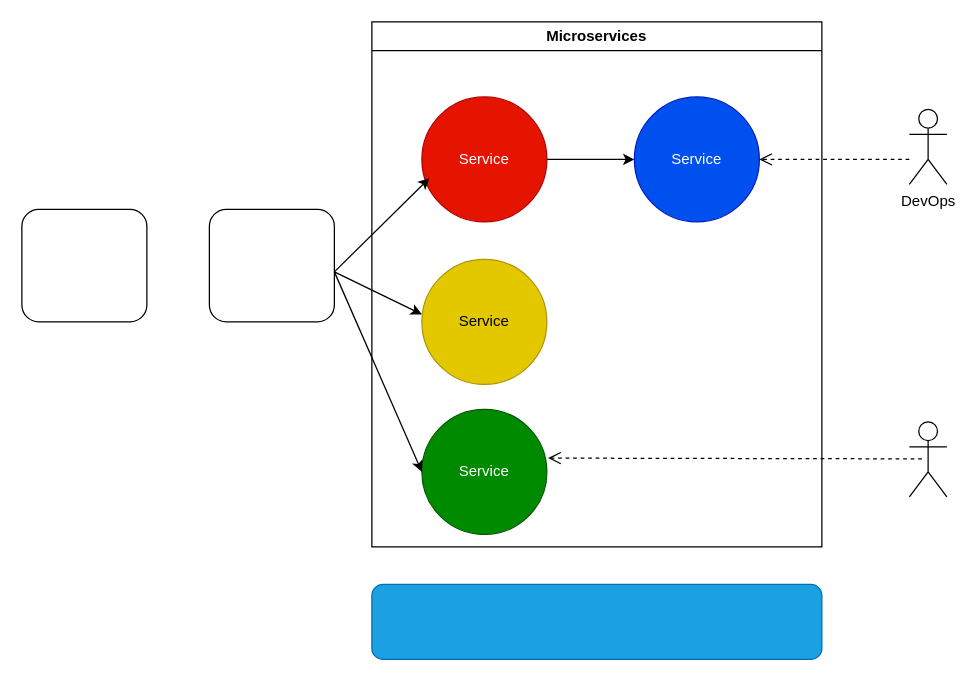
Some shapes in this 976 by 681 pixel diagram are drawn without their labels. The shapes that lost their labels are listed below. From the top down, each one's centre as x and y in pixels, then its label:
(x=84, y=265): Client
(x=271, y=265): API Gateway
(x=596, y=621): Management/Orchestration
